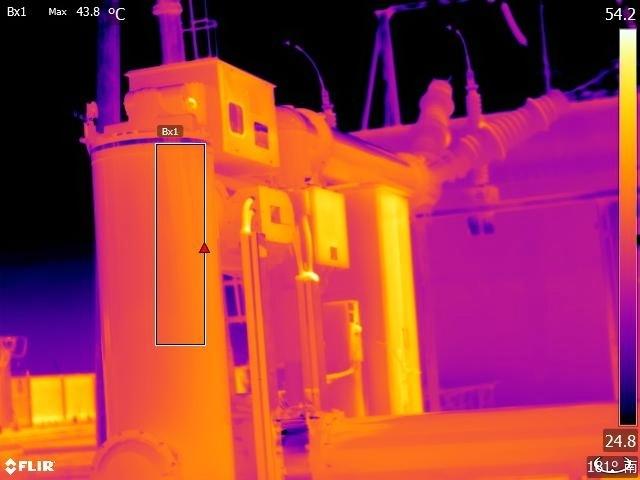clamp: (439, 81, 574, 175), (408, 77, 458, 154)
insulator: (495, 1, 533, 46)
tube: (462, 79, 493, 184), (318, 87, 341, 135)
